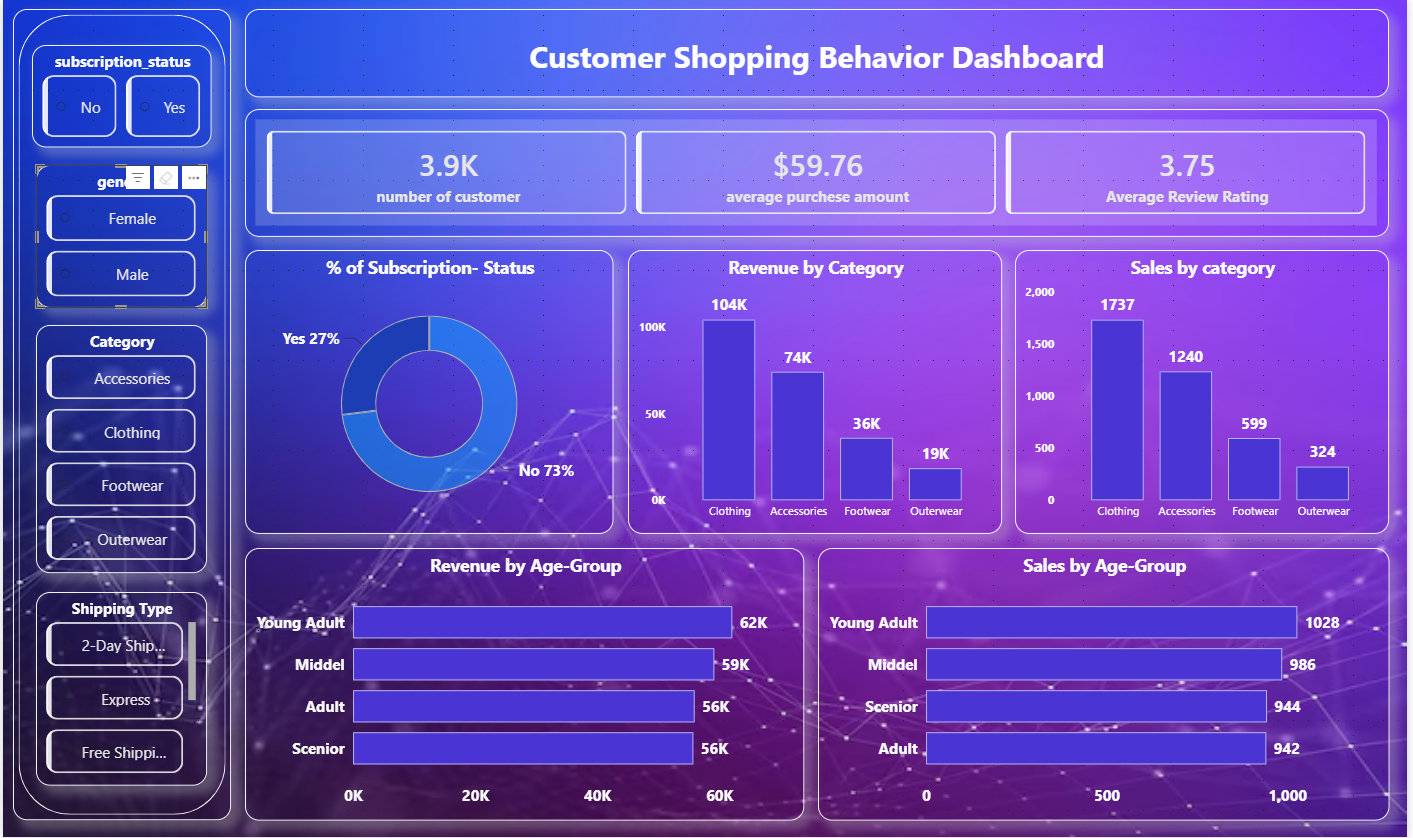

Layout of this report page (visuals, bound fields, positions):
{"tool":"powerbi","page":{"name":"Page 1","canvas":[1494,890],"ordinal":0},"visuals":[{"type":"cardVisual","fields":{"Data":["public customer_shopping.number of customer","public customer_shopping.average purchese amount","public customer_shopping.Average Review Rating"]},"box":[257.5,116.1,1217.2,135.6],"z":0},{"type":"textbox","box":[257.5,9.2,1217.2,94.3],"z":1000},{"type":"donutChart","title":"% of Subscription- Status","fields":{"Category":["public customer_shopping.subscription_status"],"Y":["CountNonNull(public customer_shopping.customer_id)"]},"box":[257.5,265.5,392,302.3],"z":2000},{"type":"clusteredColumnChart","title":"Revenue by Category","fields":{"Category":["public customer_shopping.category"],"Y":["Sum(public customer_shopping.purchese_amount)"]},"box":[664.4,265.5,397.7,302.3],"z":3000},{"type":"clusteredColumnChart","title":"Sales by category","fields":{"Y":["CountNonNull(public customer_shopping.customer_id)"],"Category":["public customer_shopping.category"]},"box":[1077,265.5,397.7,302.3],"z":4000},{"type":"shape","box":[10.3,9.2,232.2,863.2],"z":5000},{"type":"advancedSlicerVisual","fields":{"Values":["public customer_shopping.subscription_status"]},"box":[31,48.3,190.8,109.2],"z":6000},{"type":"advancedSlicerVisual","fields":{"Values":["public customer_shopping.gender"]},"box":[35.6,175.9,181.6,151.7],"z":6001},{"type":"advancedSlicerVisual","title":"Category","fields":{"Values":["public customer_shopping.category"]},"box":[35.6,346,181.6,264.4],"z":6002},{"type":"advancedSlicerVisual","title":"Shipping Type","fields":{"Values":["public customer_shopping.shipping_type"]},"box":[35.6,629.9,181.6,205.7],"z":6003},{"type":"clusteredBarChart","title":"Revenue by Age-Group","fields":{"Category":["public customer_shopping.age_group"],"Y":["Sum(public customer_shopping.purchese_amount)"]},"box":[257.5,582.8,595.4,289.7],"z":6004},{"type":"clusteredBarChart","title":"Sales by Age-Group","fields":{"Category":["public customer_shopping.age_group"],"Y":["CountNonNull(public customer_shopping.purchese_amount)"]},"box":[866.7,582.8,608,289.7],"z":6005}]}

Visuals, with their boxes in screenshot pixels (x1, y1, x2, y2), scaled from the page's 1494x890 canvas onto the 1413x838 screenshot:
cardVisual - public customer_shopping.number of customer x public customer_shopping.average purchese amount: l=244, t=109, r=1395, b=237
textbox: l=244, t=9, r=1395, b=97
"% of Subscription- Status" donutChart: l=244, t=250, r=614, b=535
"Revenue by Category" clusteredColumnChart: l=628, t=250, r=1005, b=535
"Sales by category" clusteredColumnChart: l=1019, t=250, r=1395, b=535
shape: l=10, t=9, r=229, b=821
advancedSlicerVisual - public customer_shopping.subscription_status: l=29, t=45, r=210, b=148
advancedSlicerVisual - public customer_shopping.gender: l=34, t=166, r=205, b=308
"Category" advancedSlicerVisual: l=34, t=326, r=205, b=575
"Shipping Type" advancedSlicerVisual: l=34, t=593, r=205, b=787
"Revenue by Age-Group" clusteredBarChart: l=244, t=549, r=807, b=822
"Sales by Age-Group" clusteredBarChart: l=820, t=549, r=1395, b=822
